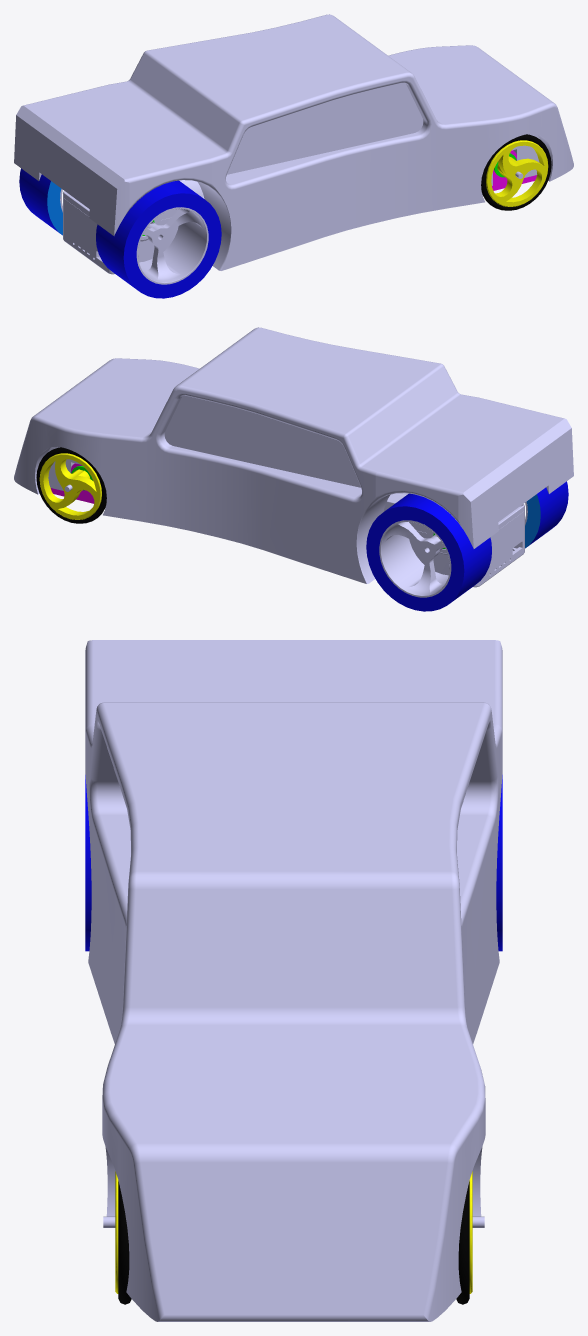
Rendered from Voiture_CEC_Bordeaux.glb.
3 renders of one model, top to bottom at view 1: azimuth 30°, elevation 25°; view 2: azimuth 150°, elevation 25°; view 3: azimuth 270°, elevation 25°, orthographic. The views are drawn at different scales.
Parts seen in each view (by area): view 1: Corps principal (×4), pneu (×2), jante; view 2: Corps principal (×4), pneu (×2), jante; view 3: Corps principal (×3), pneu (×2).
Boxes of the visible parts, left/top/right/bottom form: Corps principal (×4): left=14, top=14, right=573, bottom=271; pneu (×2): left=19, top=168, right=221, bottom=298; jante: left=136, top=207, right=208, bottom=284; Corps principal (×4): left=14, top=327, right=573, bottom=584; pneu (×2): left=366, top=481, right=568, bottom=611; jante: left=379, top=520, right=451, bottom=597; Corps principal (×3): left=85, top=640, right=502, bottom=1321; pneu (×2): left=85, top=775, right=502, bottom=951.
Size of the model in its own units: 0.2772 by 0.0895 by 0.105.
